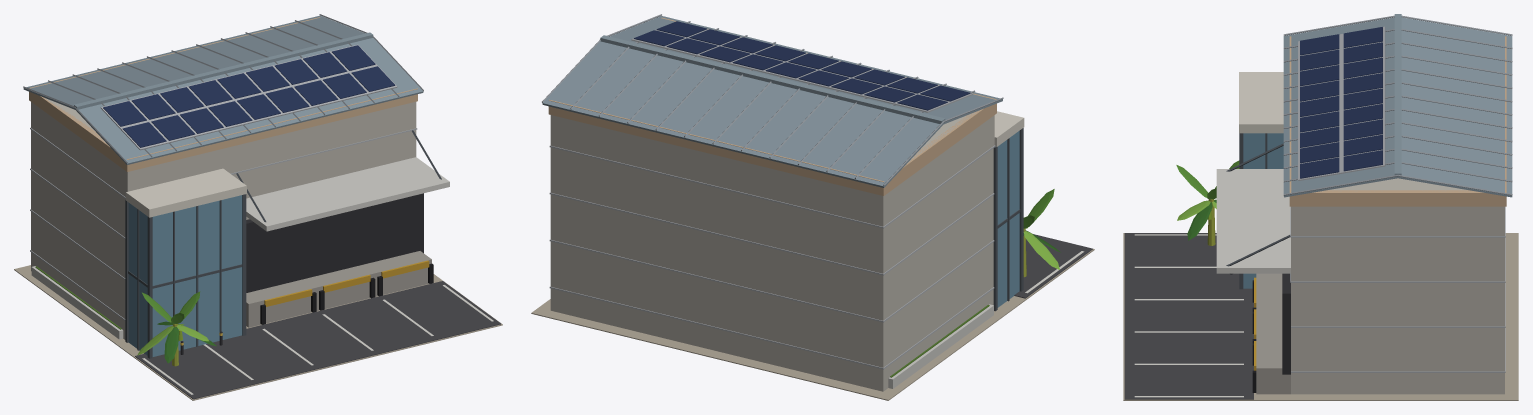
The model's file is factory_2.glb.
3 renders of one model, left to right at view 1: azimuth 30°, elevation 25°; view 2: azimuth 150°, elevation 25°; view 3: azimuth 270°, elevation 25°, orthographic. The views are drawn at different scales.
Visible parts, largest first — view 1: body; view 2: body; view 3: body.
Part boxes in pixels (<box>): body: <box>14,14,502,400</box>; body: <box>531,14,1094,400</box>; body: <box>1123,14,1518,400</box>.
Size of the model in its own units: 16.56 by 9.92 by 15.9.
